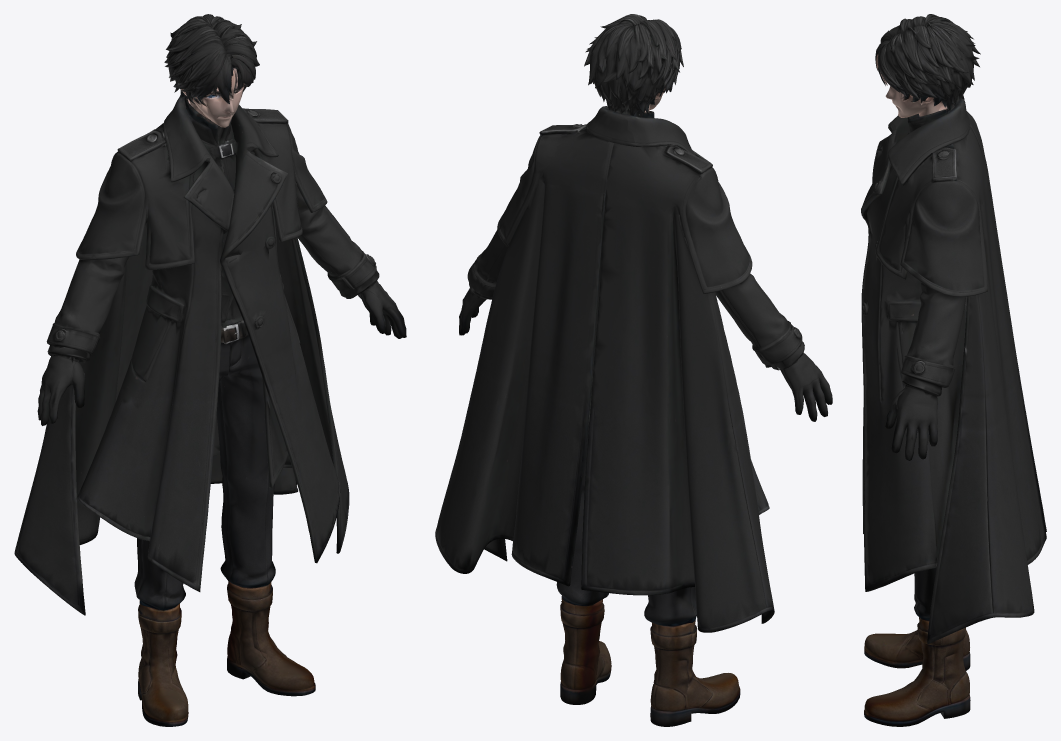
File: 강준서 2차 수정본_보정1_앞머리가운데원본색.glb
3 renders of one model, left to right at view 1: azimuth 30°, elevation 25°; view 2: azimuth 150°, elevation 25°; view 3: azimuth 270°, elevation 25°, orthographic.
Parts seen in each view (by area): view 1: tripo_part_0, tripo_part_2, tripo_part_15, tripo_part_5, tripo_part_1, tripo_part_7, tripo_part_6, tripo_part_8, tripo_part_4, tripo_part_9, tripo_part_16, tripo_part_3 (+9 smaller); view 2: tripo_part_2, tripo_part_1, tripo_part_5, tripo_part_6, tripo_part_8, tripo_part_7, tripo_part_16, tripo_part_4, tripo_part_12, tripo_part_10, tripo_part_3, tripo_part_15 (+6 smaller); view 3: tripo_part_1, tripo_part_0, tripo_part_4, tripo_part_7, tripo_part_10, tripo_part_9, tripo_part_11, tripo_part_17, tripo_part_6, tripo_part_5, tripo_part_8, tripo_part_14 (+6 smaller).
Boxes of the visible parts, x1,y1,x2,y2 form: tripo_part_0: [77, 151, 340, 591]; tripo_part_2: [14, 225, 152, 615]; tripo_part_15: [216, 323, 275, 588]; tripo_part_5: [76, 123, 194, 269]; tripo_part_1: [210, 220, 349, 553]; tripo_part_7: [227, 581, 315, 696]; tripo_part_6: [138, 600, 188, 726]; tripo_part_8: [164, 16, 234, 107]; tripo_part_4: [243, 108, 327, 242]; tripo_part_9: [296, 184, 379, 298]; tripo_part_16: [54, 218, 147, 336]; tripo_part_3: [134, 340, 232, 611]; tripo_part_2: [581, 189, 774, 632]; tripo_part_1: [435, 173, 605, 586]; tripo_part_5: [543, 132, 752, 293]; tripo_part_6: [650, 621, 740, 726]; tripo_part_8: [602, 19, 683, 117]; tripo_part_7: [560, 596, 611, 704]; tripo_part_16: [715, 273, 791, 348]; tripo_part_4: [497, 124, 586, 246]; tripo_part_12: [780, 352, 832, 421]; tripo_part_10: [584, 14, 646, 110]; tripo_part_3: [644, 587, 696, 625]; tripo_part_15: [556, 423, 608, 606]; tripo_part_1: [927, 171, 1046, 643]; tripo_part_0: [861, 135, 986, 591]; tripo_part_4: [875, 143, 987, 296]; tripo_part_7: [864, 617, 970, 726]; tripo_part_10: [885, 22, 979, 113]; tripo_part_9: [901, 282, 965, 396]; tripo_part_11: [888, 98, 970, 185]; tripo_part_17: [885, 384, 937, 460]; tripo_part_6: [864, 629, 970, 670]; tripo_part_5: [956, 111, 986, 203]; tripo_part_8: [875, 14, 980, 104]; tripo_part_14: [885, 86, 941, 117].
Size of the model in its own units: 0.5487 by 0.9784 by 0.2464.
Materials: 29 (29 with a texture image).
